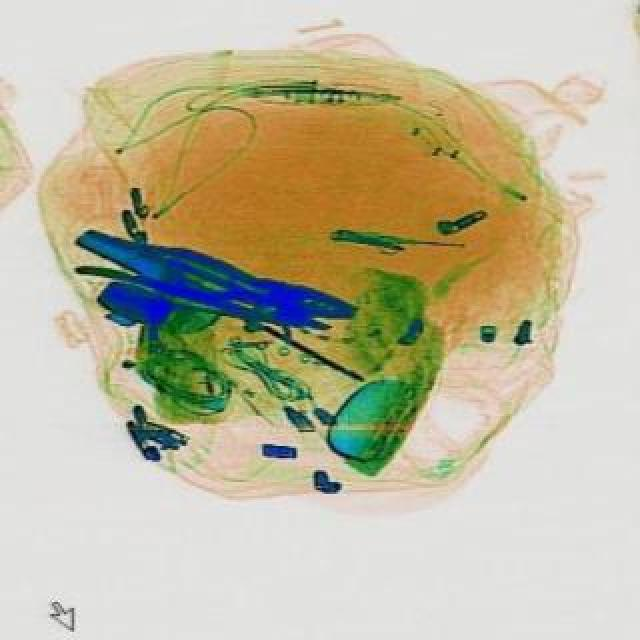wrench: (80, 228, 366, 344)
